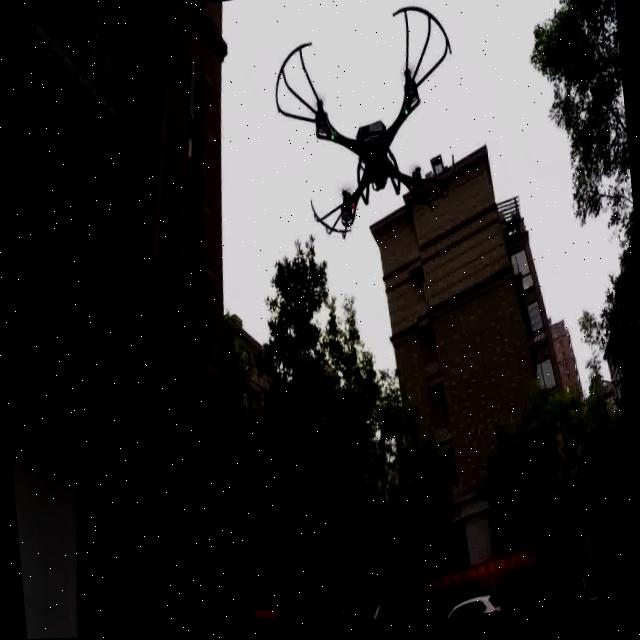drone: (267, 0, 470, 260)
